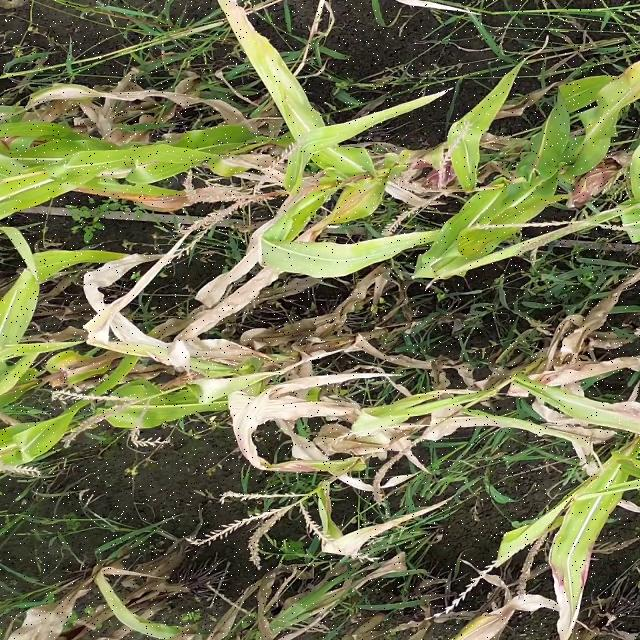northern-leaf-blight: (510, 483, 625, 620), (288, 176, 387, 252), (73, 177, 198, 231)
